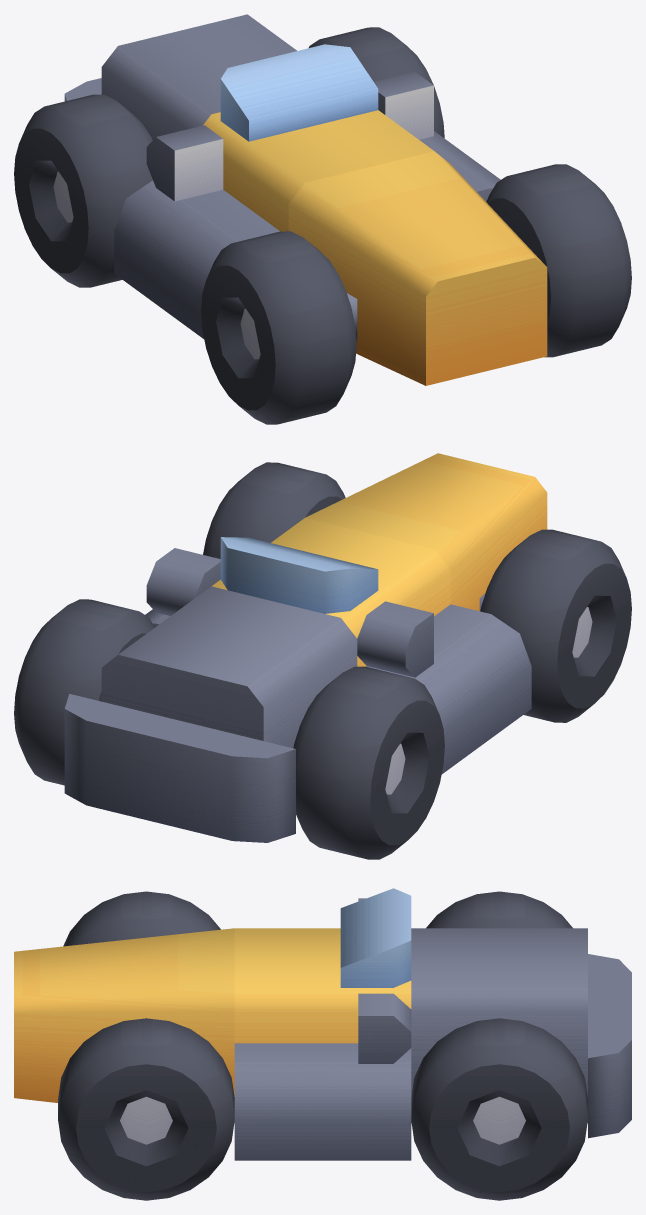
The model's file is car_yellow.glb.
3 renders of one model, top to bottom at view 1: azimuth 30°, elevation 25°; view 2: azimuth 150°, elevation 25°; view 3: azimuth 270°, elevation 25°, orthographic. The views are drawn at different scales.
Visible parts, largest first — view 1: vehicle-vintage-racer, wheel-bl, wheel-fl, wheel-br, wheel-fr; view 2: vehicle-vintage-racer, wheel-fl, wheel-bl, wheel-fr, wheel-br; view 3: vehicle-vintage-racer, wheel-br, wheel-fr, wheel-bl, wheel-fl.
Part boxes in pixels (<box>): vehicle-vintage-racer: <box>64,14,547,385</box>; wheel-bl: <box>201,231,356,424</box>; wheel-fl: <box>14,94,152,287</box>; wheel-br: <box>486,164,631,357</box>; wheel-fr: <box>308,27,444,138</box>; vehicle-vintage-racer: <box>64,453,547,842</box>; wheel-fl: <box>293,666,444,859</box>; wheel-bl: <box>480,529,631,722</box>; wheel-fr: <box>14,599,154,785</box>; wheel-br: <box>203,462,345,558</box>; vehicle-vintage-racer: <box>14,888,631,1160</box>; wheel-br: <box>58,1018,234,1200</box>; wheel-fr: <box>411,1018,587,1200</box>; wheel-bl: <box>63,891,220,946</box>; wheel-fl: <box>426,891,572,928</box>.
Size of the model in its own units: 0.55 by 0.325 by 0.875.
1 material, 1 textured.
